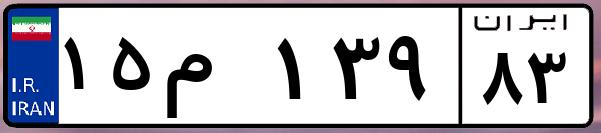1: (270, 28, 330, 110), (57, 26, 110, 100)
3: (330, 28, 385, 110), (525, 38, 570, 115)
5: (110, 28, 158, 98)
8: (475, 38, 525, 113)
9: (385, 28, 445, 110)
م: (158, 20, 270, 120)
